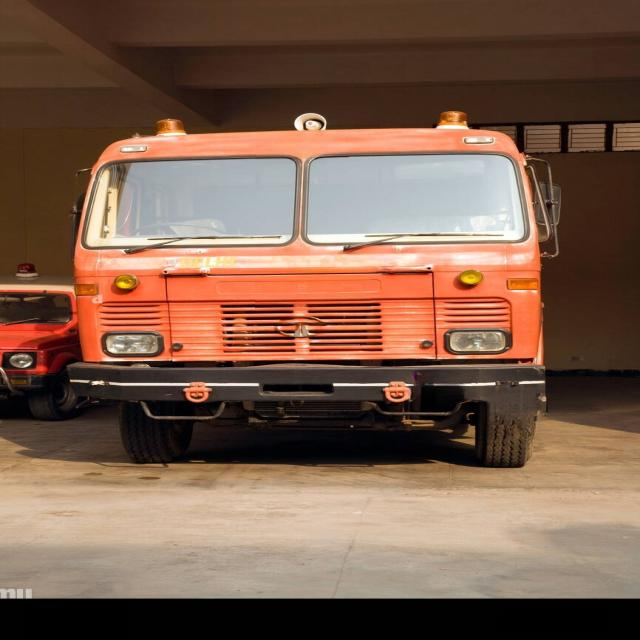emergency: (68, 111, 560, 468)
